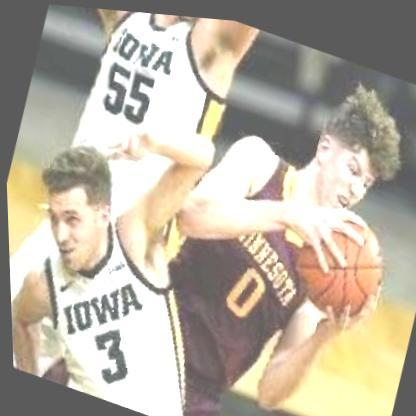basketball: (284, 192, 398, 325)
